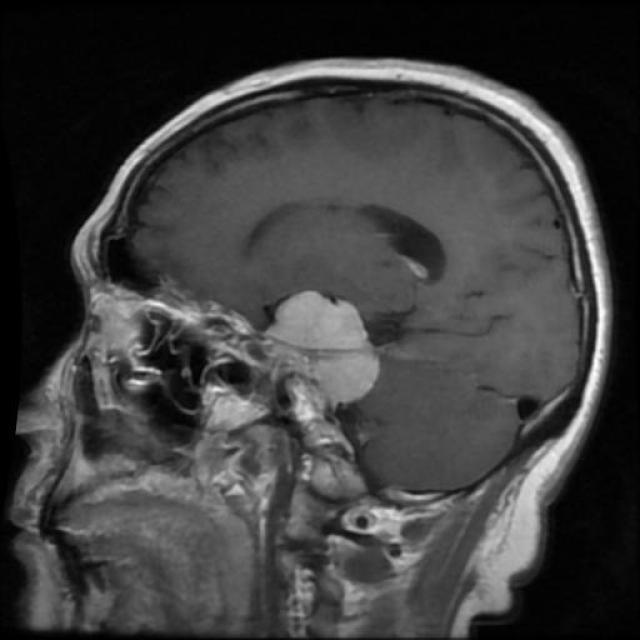meningioma: (265, 291, 380, 406)
